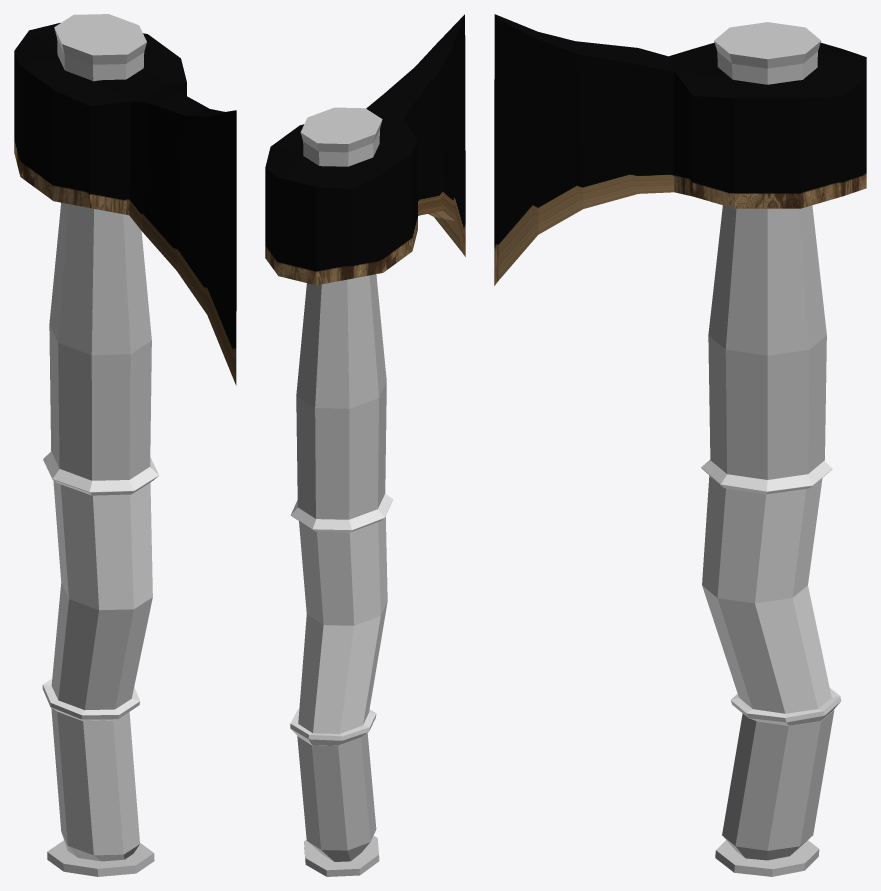
File: Axe_Rubber.fbx
3 views of the same model, side by side, from view 1: azimuth 30°, elevation 25°; view 2: azimuth 150°, elevation 25°; view 3: azimuth 270°, elevation 25° (orthographic). The views are drawn at different scales.
Parts seen in each view (by area): view 1: Cube; view 2: Cube; view 3: Cube.
Part boxes in pixels (box(x1,y1,x2,y2)): Cube: box(14, 14, 236, 876); Cube: box(265, 14, 465, 876); Cube: box(494, 14, 866, 876).
Size of the model in its own units: 239 by 1533 by 612.
